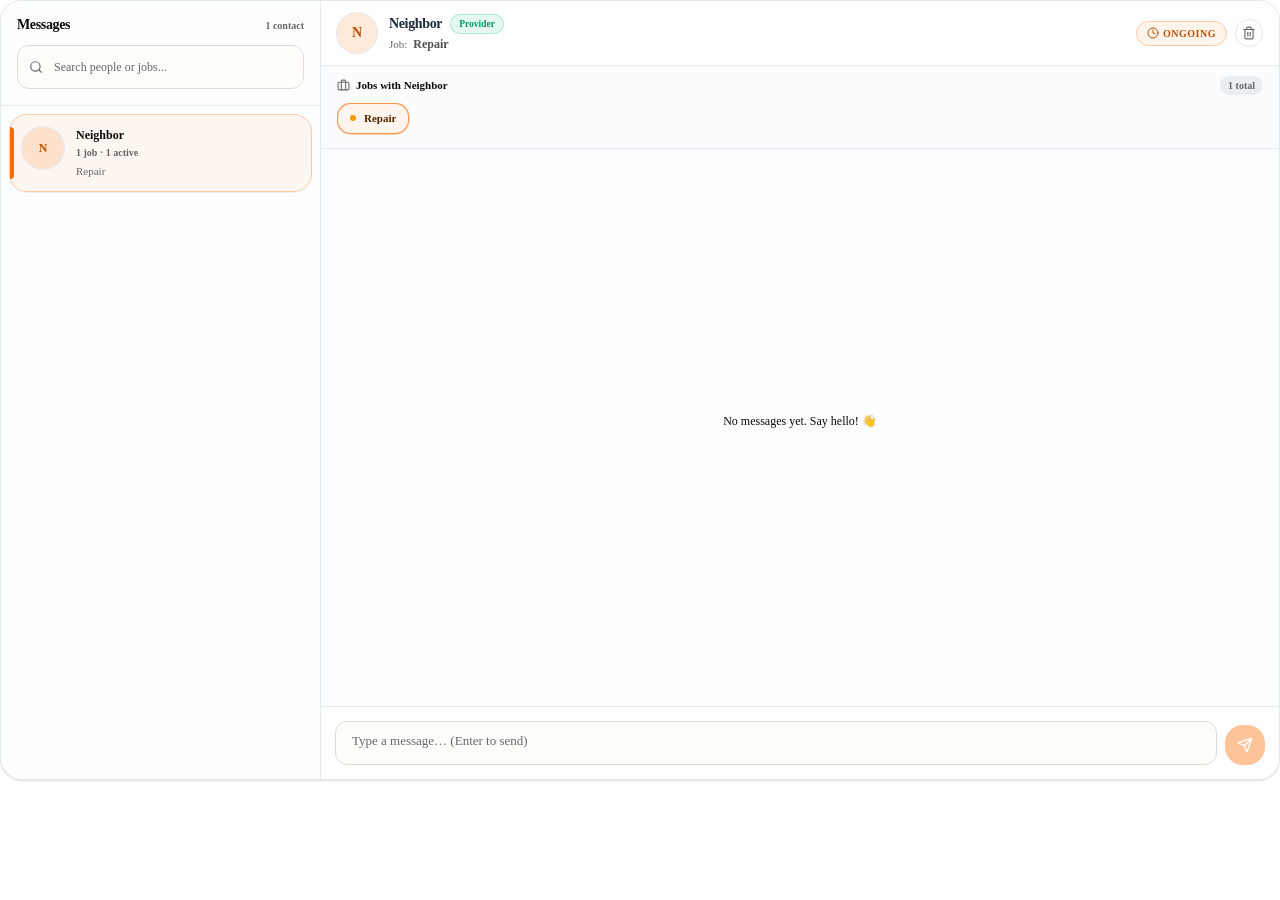
it: text-only chat in both workspaces › seeker has only a text composer and receives real-time replies without duplicate bubbles
Expected: the button named "Send message" is disabled, x1=1225 y1=725 x2=1265 y2=765
Type "  Can you come tomorrow?  " into the text box labelled "message" at [776, 743], box x1=335 y1=721 x2=1217 y2=765
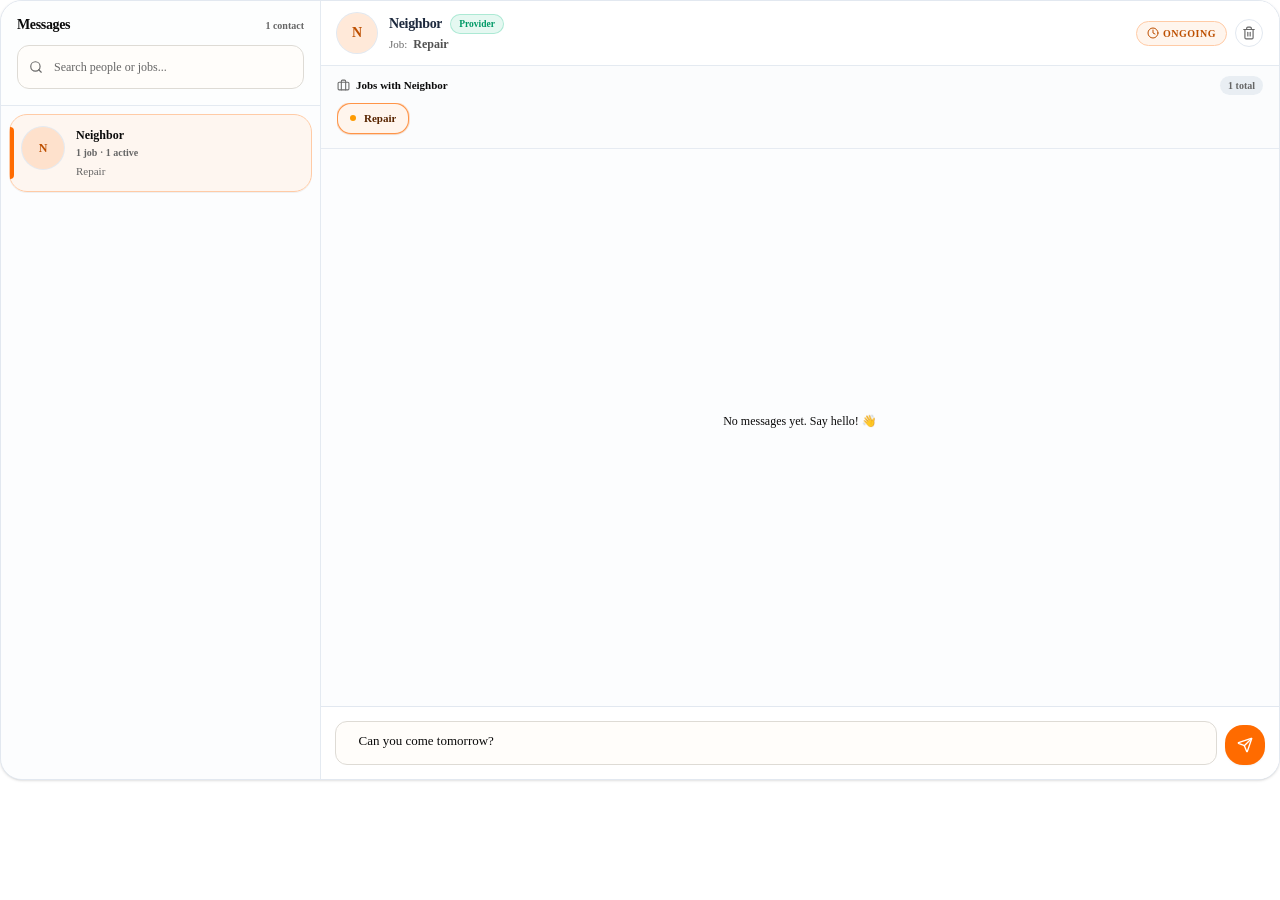
Press Enter in the text box named "message", box x1=335 y1=721 x2=1217 y2=765
Press Enter in the text box named "message", box x1=335 y1=721 x2=1217 y2=765
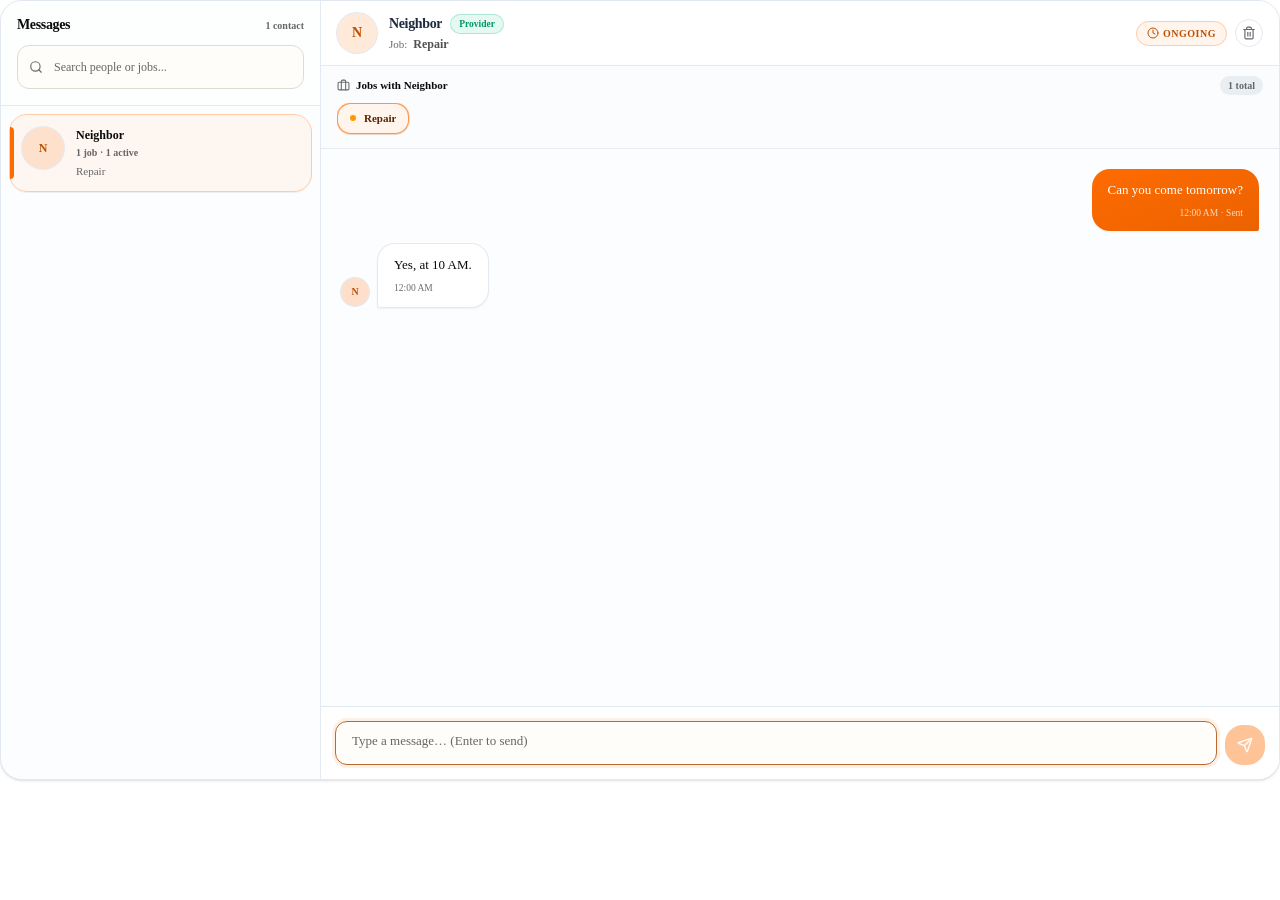
Expected: the text box labelled "message" is empty
Expected: the text "Can you come tomorrow?" is shown once, x1=1108 y1=178 x2=1243 y2=200
Expected: the text "Yes, at 10 AM." is shown, x1=394 y1=254 x2=472 y2=275
Type "Great, see you then." into the text box labelled "message" at [776, 743], box x1=335 y1=721 x2=1217 y2=765
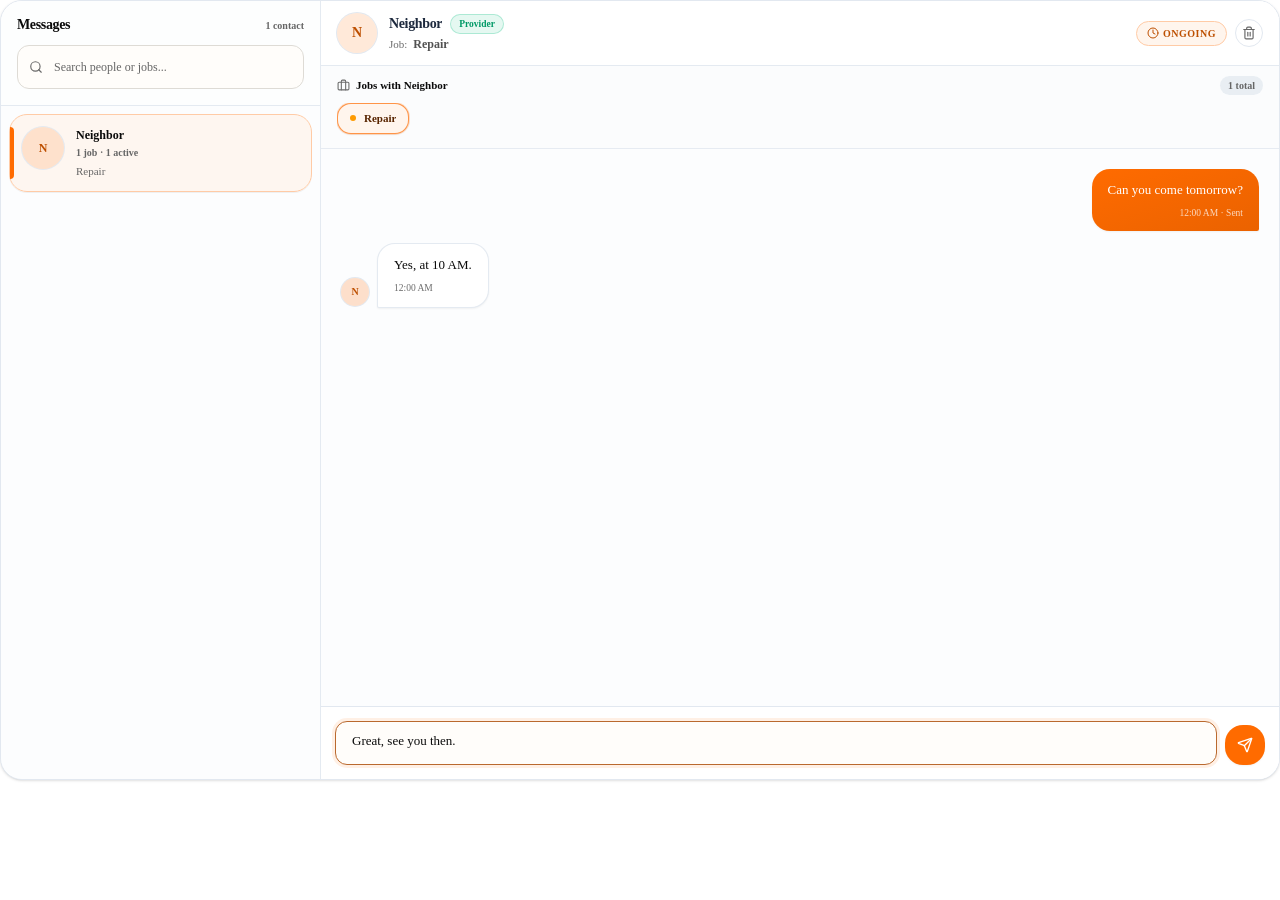
Click the button named "Send message" at [1245, 745], box x1=1225 y1=725 x2=1265 y2=765
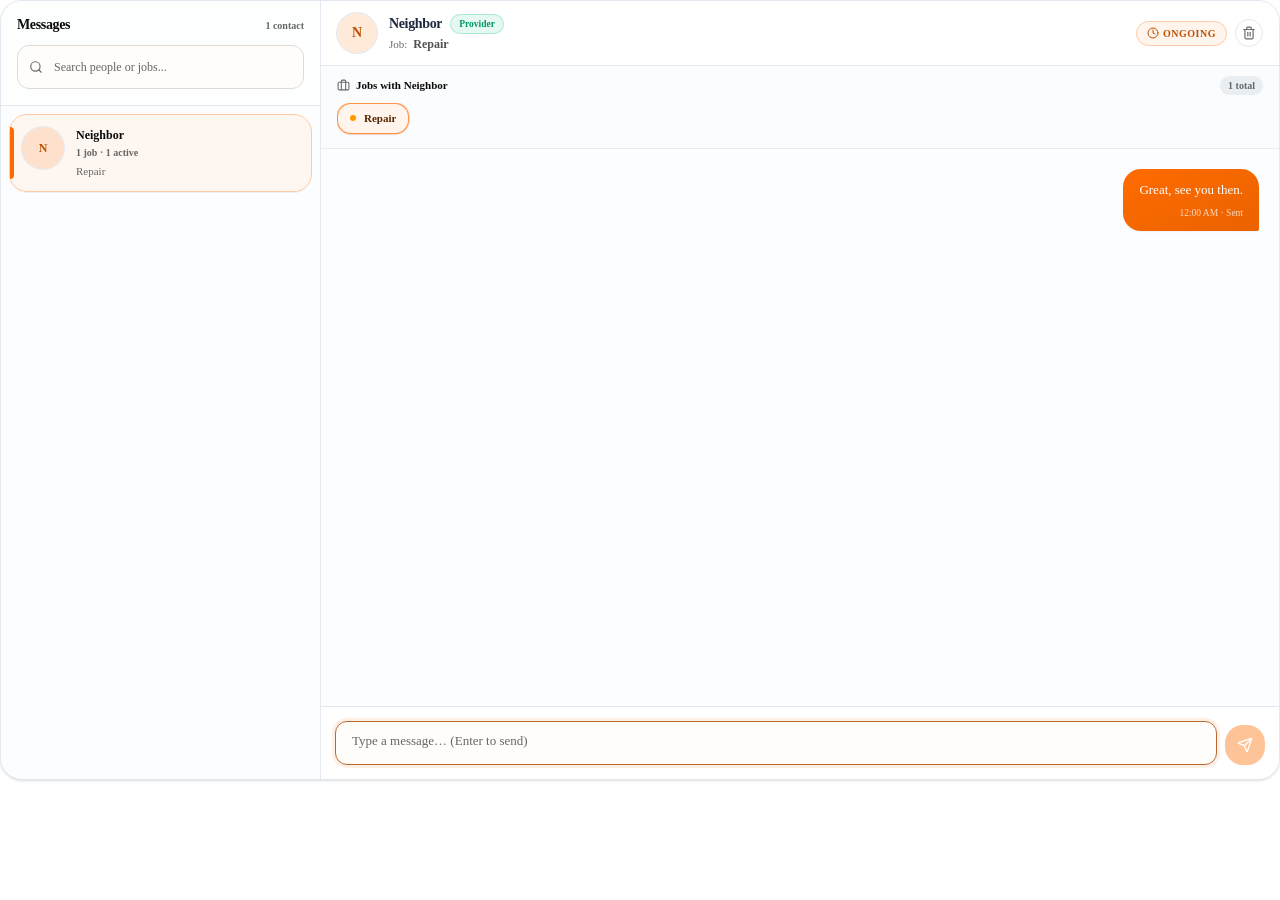
Expected: the text "Great, see you then." is shown, x1=1139 y1=178 x2=1243 y2=200
